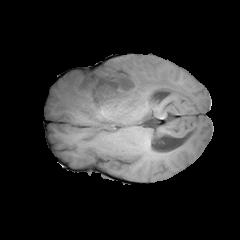glioma: (54, 57, 192, 127)
